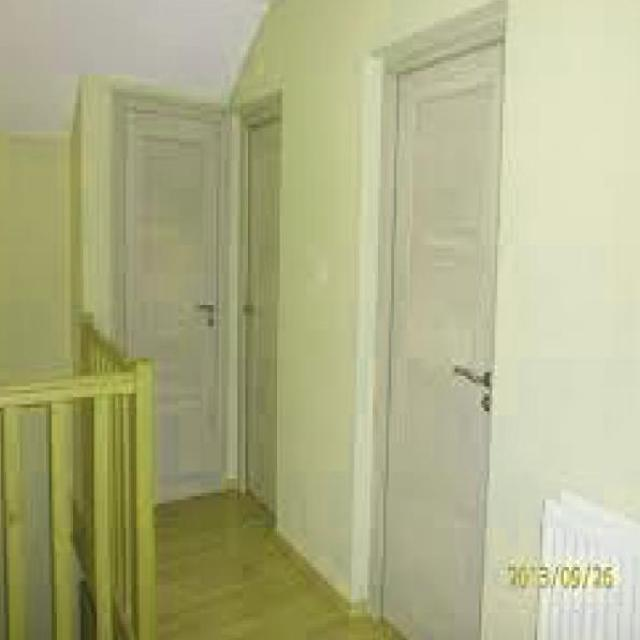door: (378, 32, 502, 639), (117, 98, 226, 504), (242, 114, 283, 524)
